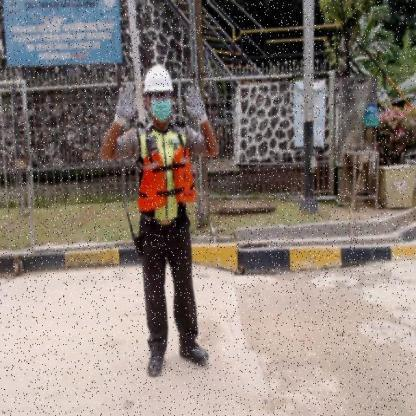boots: (178, 341, 210, 367), (145, 346, 167, 378)
gloves: (113, 84, 139, 127), (183, 84, 208, 125)
goggles: (150, 92, 172, 100)
helmet: (142, 64, 173, 91)
mask: (150, 101, 172, 121)
vest: (137, 146, 197, 212)
